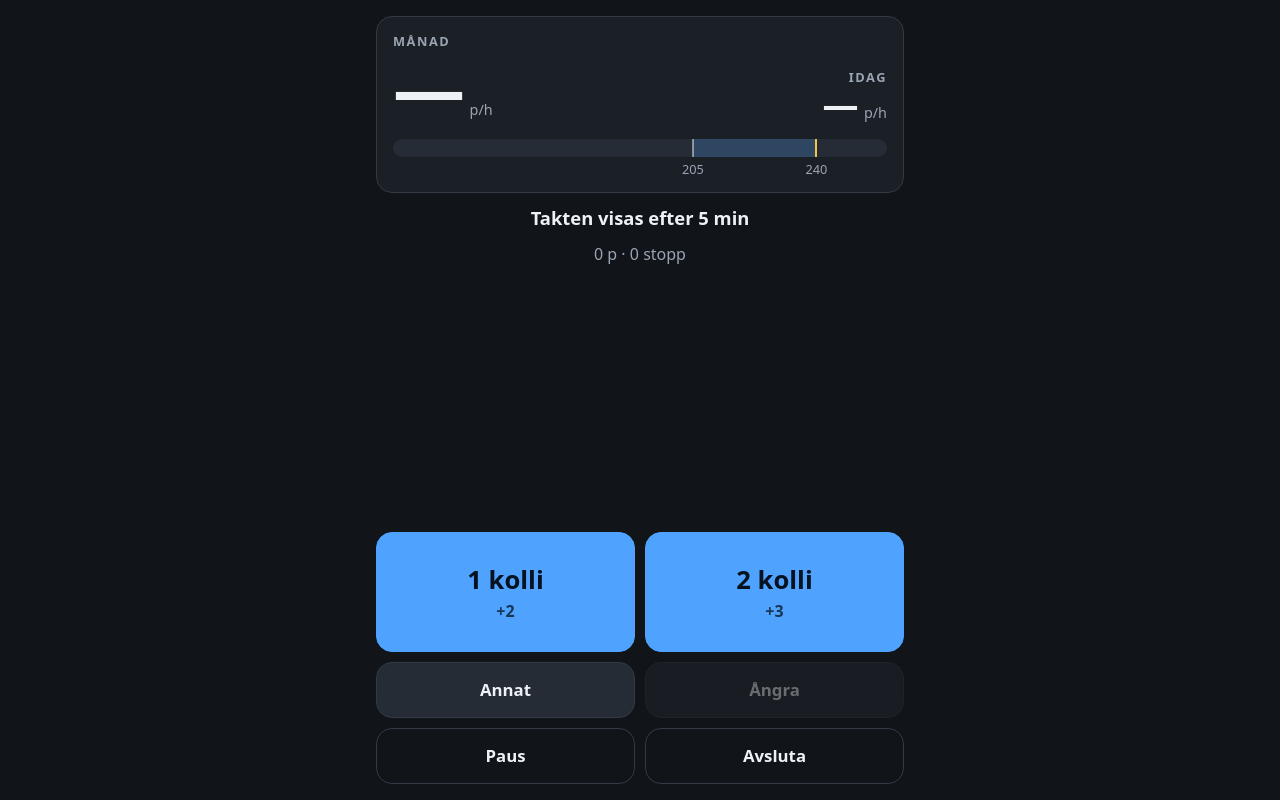
Test case: Annat adds a 4-kolli stop and pause disables stop buttons
Click the button "Annat": (506, 690) [376,662,635,718]
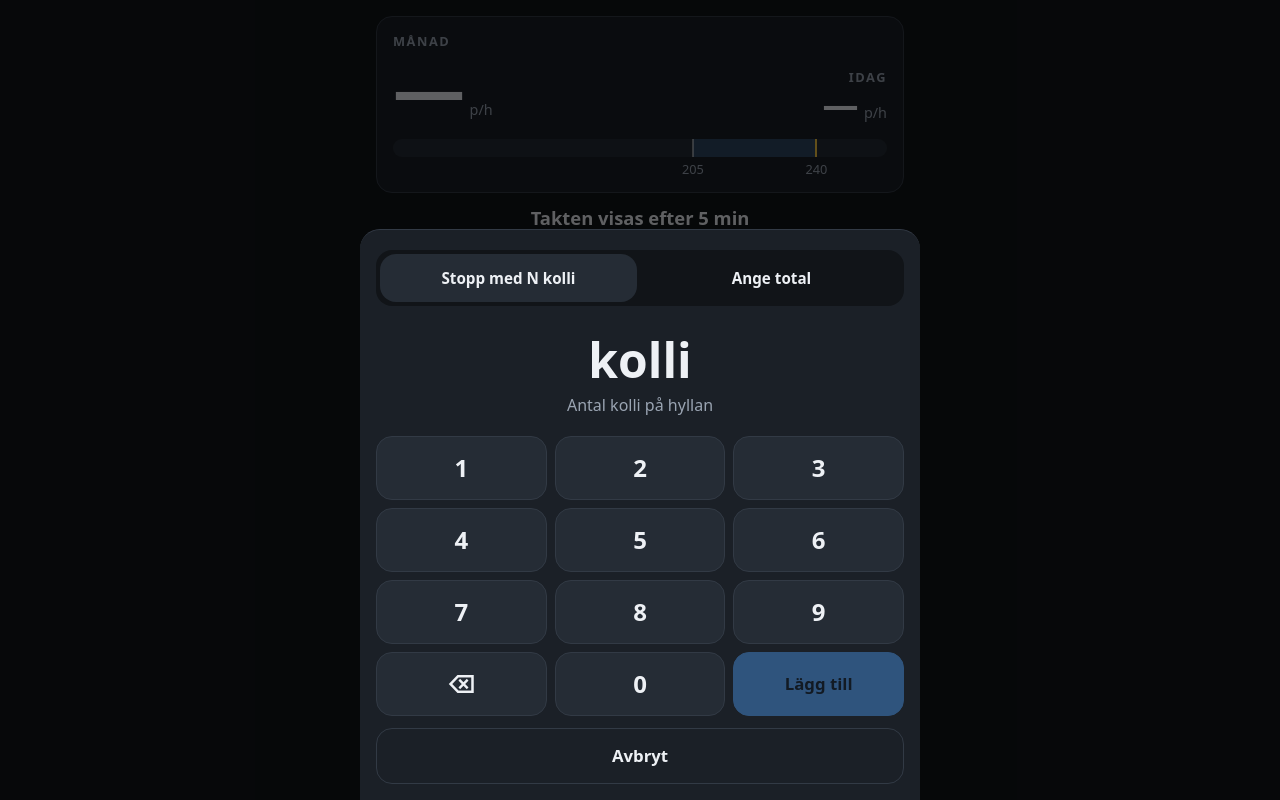
Click the button "4": (461, 540) [376,508,547,572]
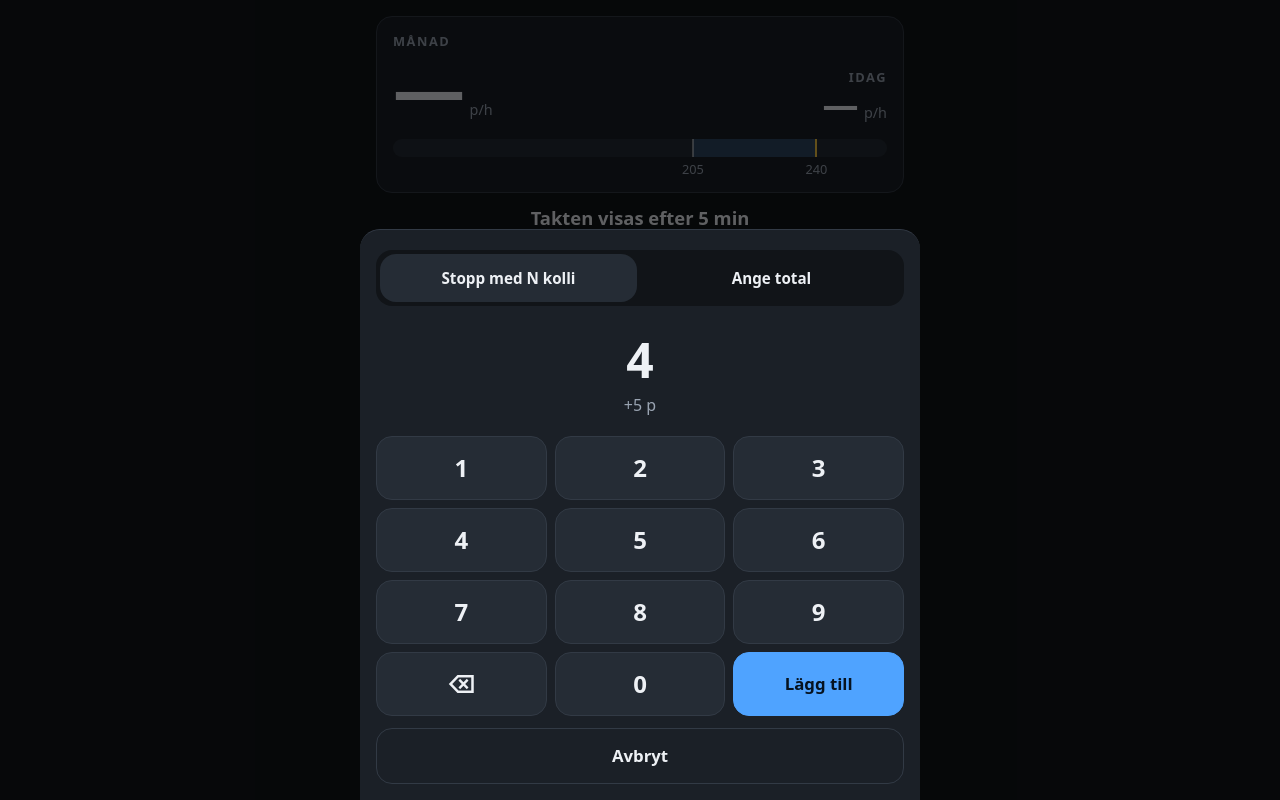
Click the button "Lägg till": (819, 684) [733,652,904,716]
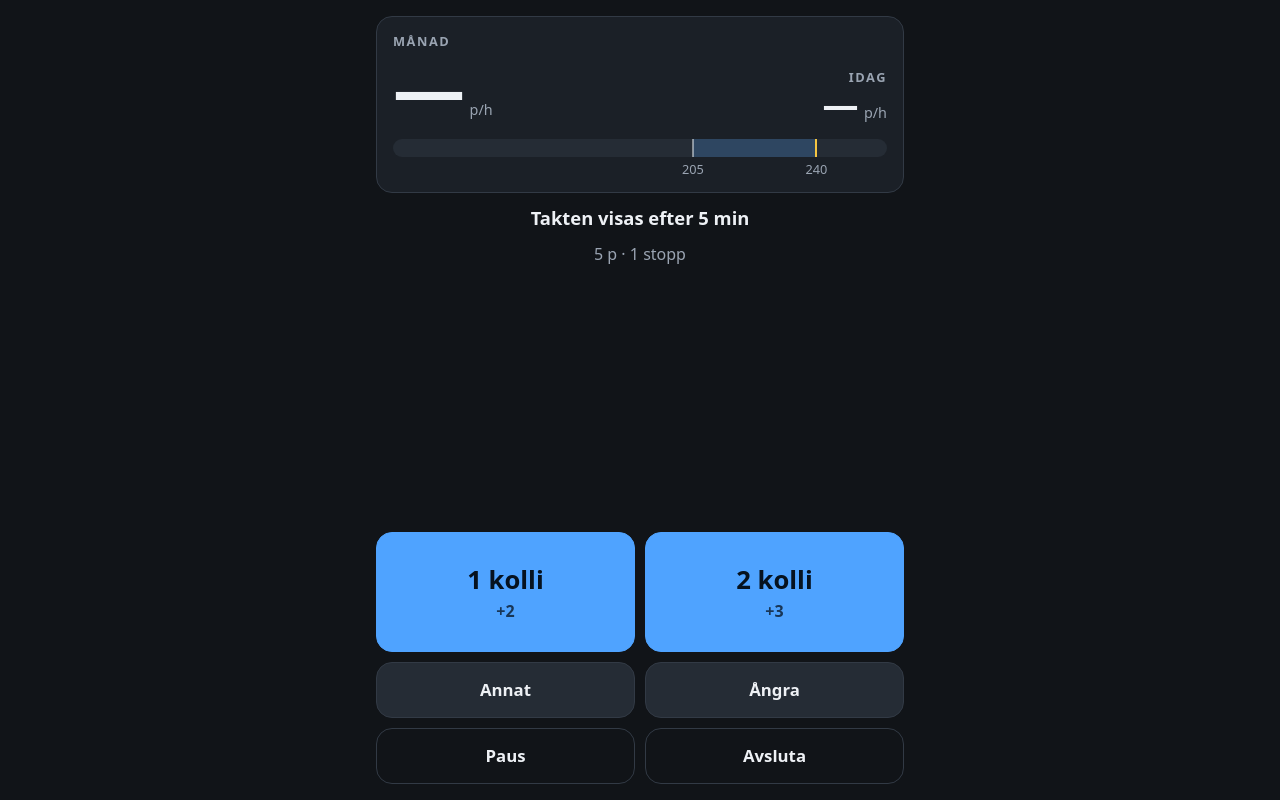
Expected: the text "5 p · 1 stopp" is shown, [594,243,686,265]
Click the button "Paus": (506, 756) [376,728,635,784]
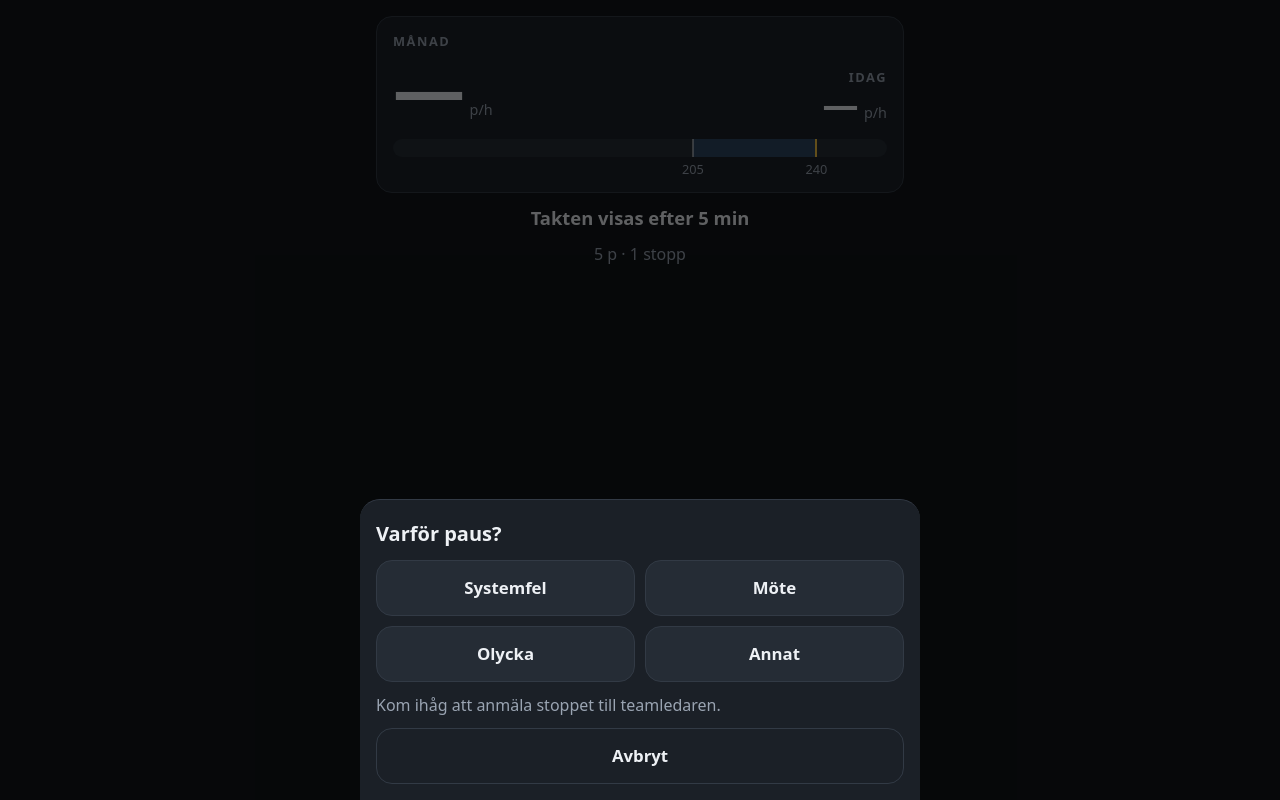
Click the button "Möte": (774, 588) [645,560,904,616]
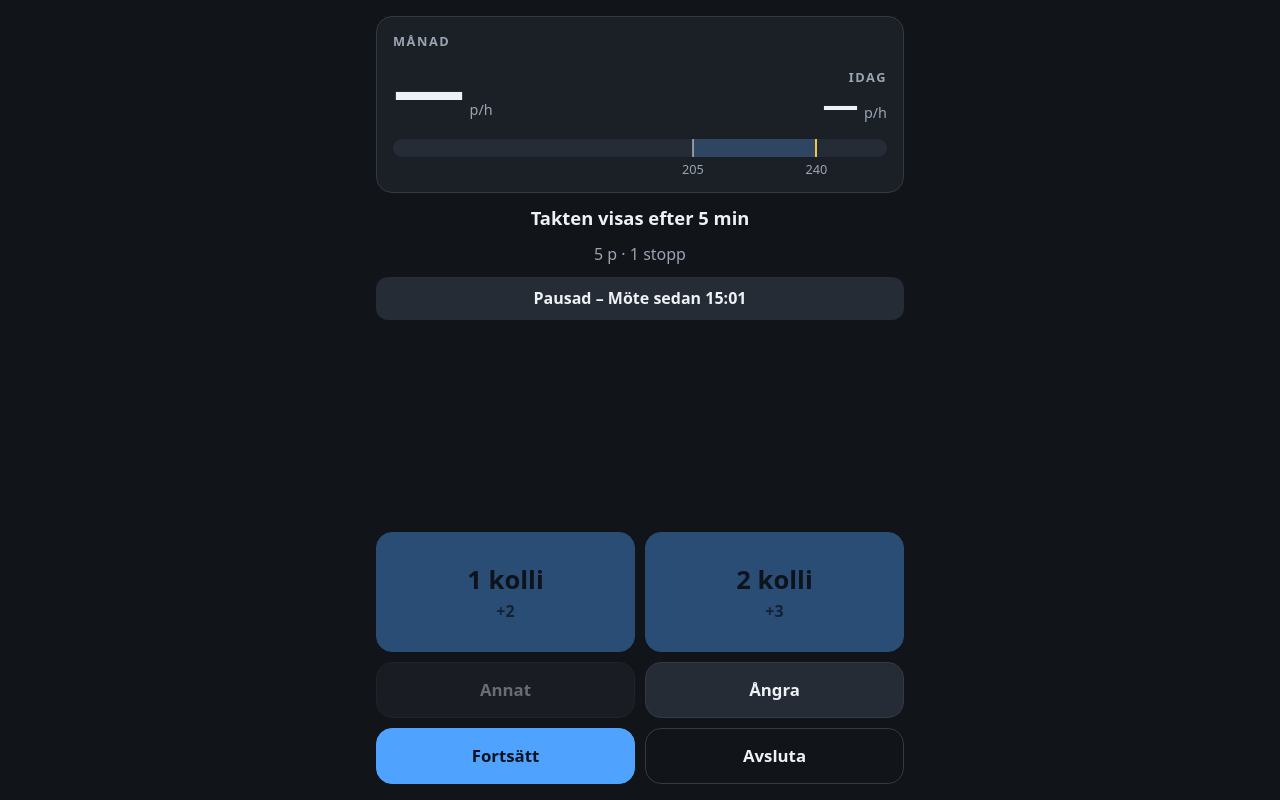
Expected: the button "1 kolli +2" is disabled, [376,532,635,652]
Expected: the text "Pausad – Möte sedan 15:01" is shown, [376,277,904,320]
Click the button "Fortsätt": (506, 756) [376,728,635,784]
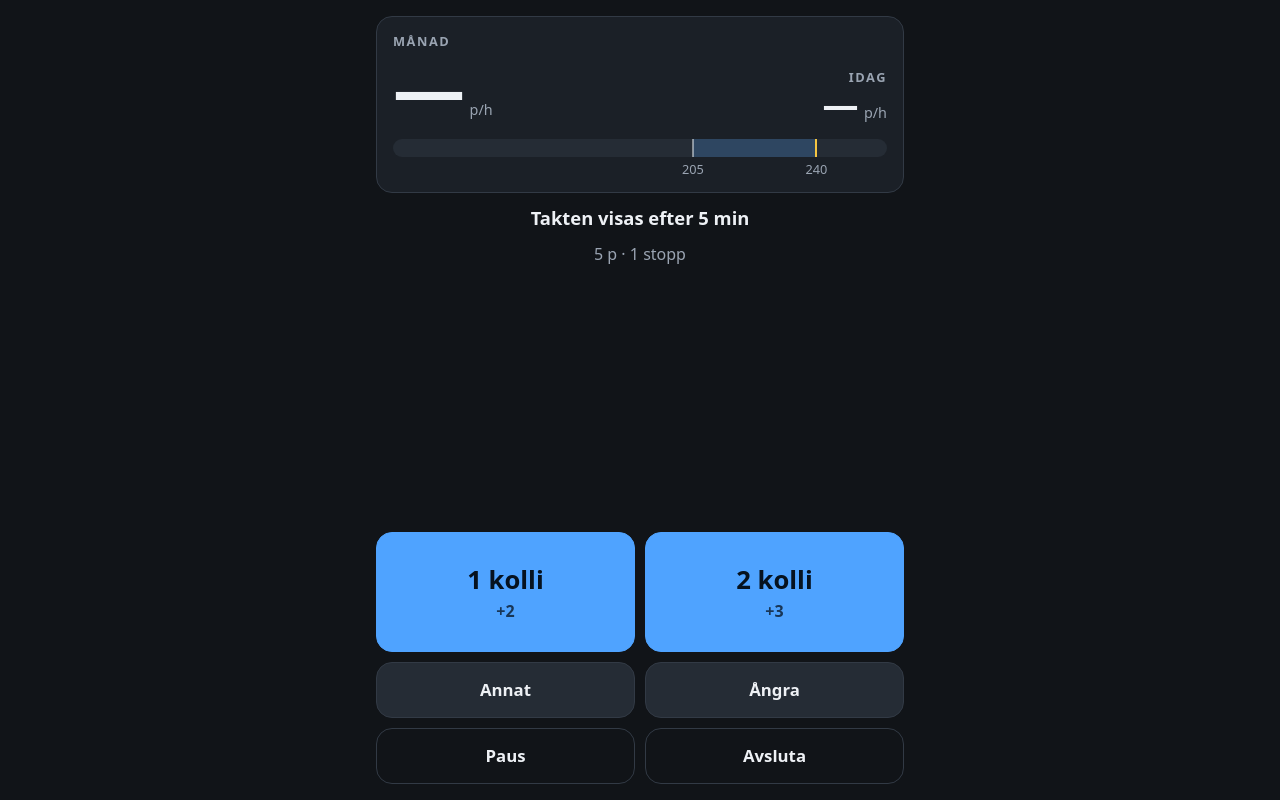
Expected: the button "1 kolli +2" is enabled, [376,532,635,652]
